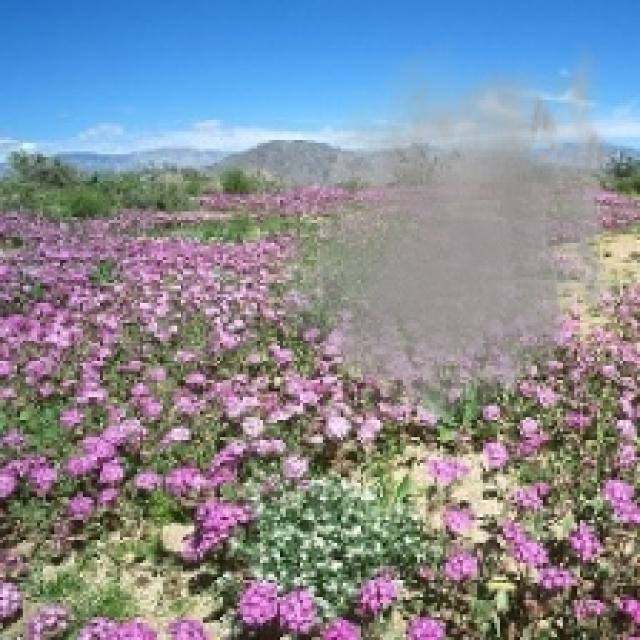smoke: (268, 31, 632, 446)
